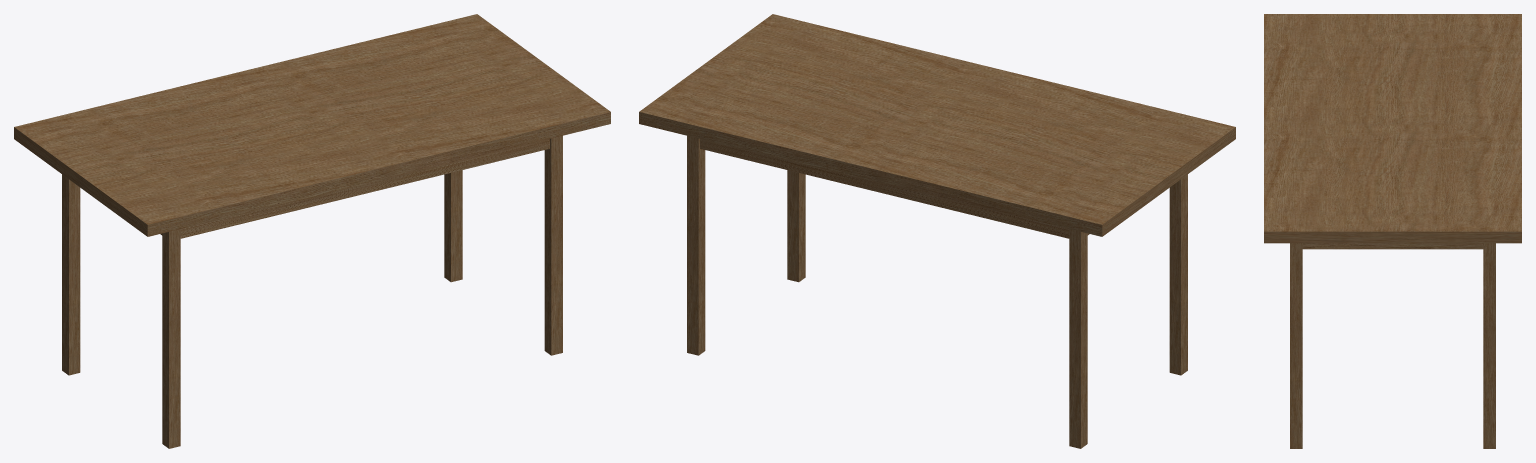
File: mesa.glb
3 views of the same model, side by side, from view 1: azimuth 30°, elevation 25°; view 2: azimuth 150°, elevation 25°; view 3: azimuth 270°, elevation 25° (orthographic). The views are drawn at different scales.
Parts seen in each view (by area): view 1: Cubo.007_0; view 2: Cubo.007_0; view 3: Cubo.007_0.
Part boxes in pixels (x1,y1,x2,y2): Cubo.007_0: (14,14,610,448); Cubo.007_0: (639,14,1235,448); Cubo.007_0: (1264,14,1521,448).
Size of the model in its own units: 2.07 by 1.04 by 1.04.
1 material, 1 textured.
